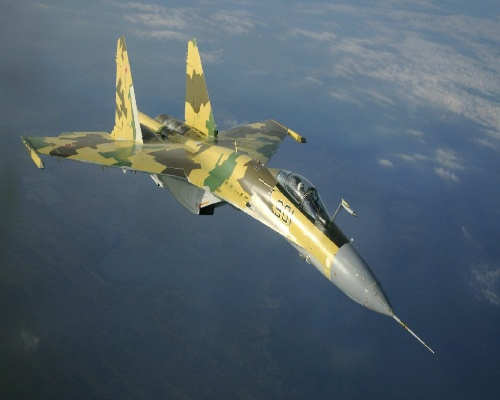plane: (20, 38, 437, 357)
